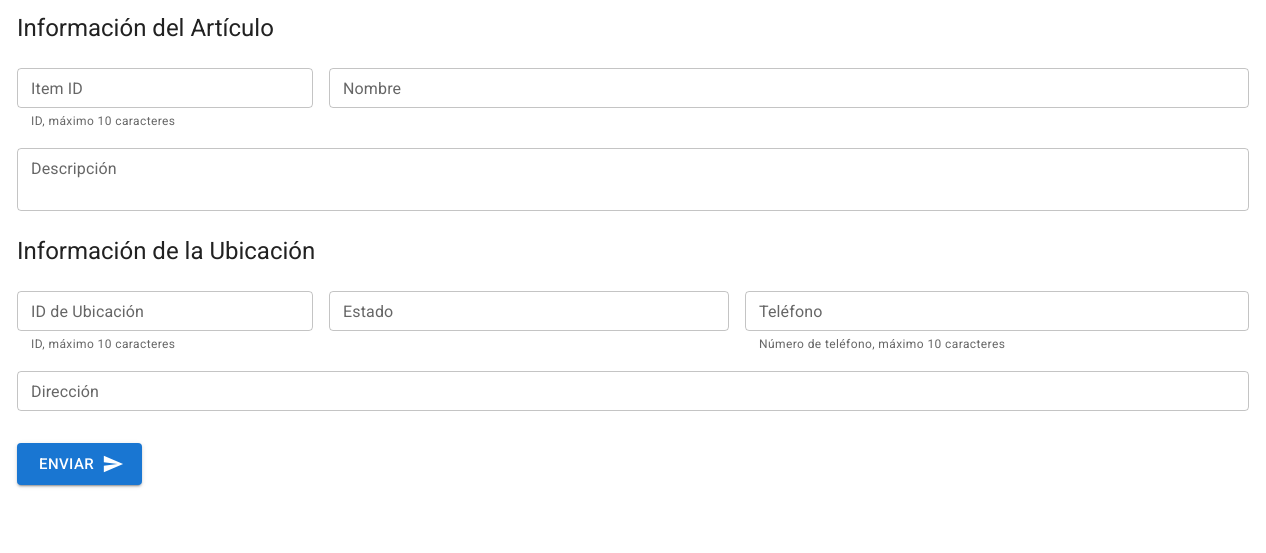
it: Verifica que los campos esten llenos
Click the button at (80, 464), box 17,443 -> 142,485
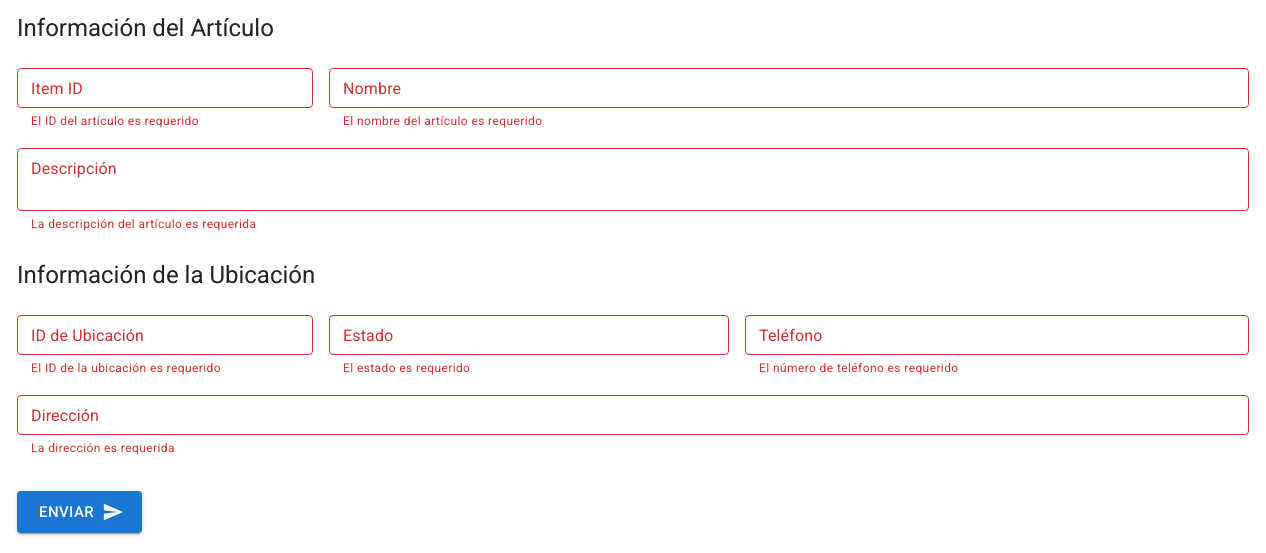
Result: the text "El ID del artículo es requerido" is shown at 31,114 -> 199,128
Result: the text "El nombre del artículo es requerido" is shown at 343,114 -> 542,128
Result: the text "La descripción del artículo es requerida" is shown at 31,217 -> 256,231
